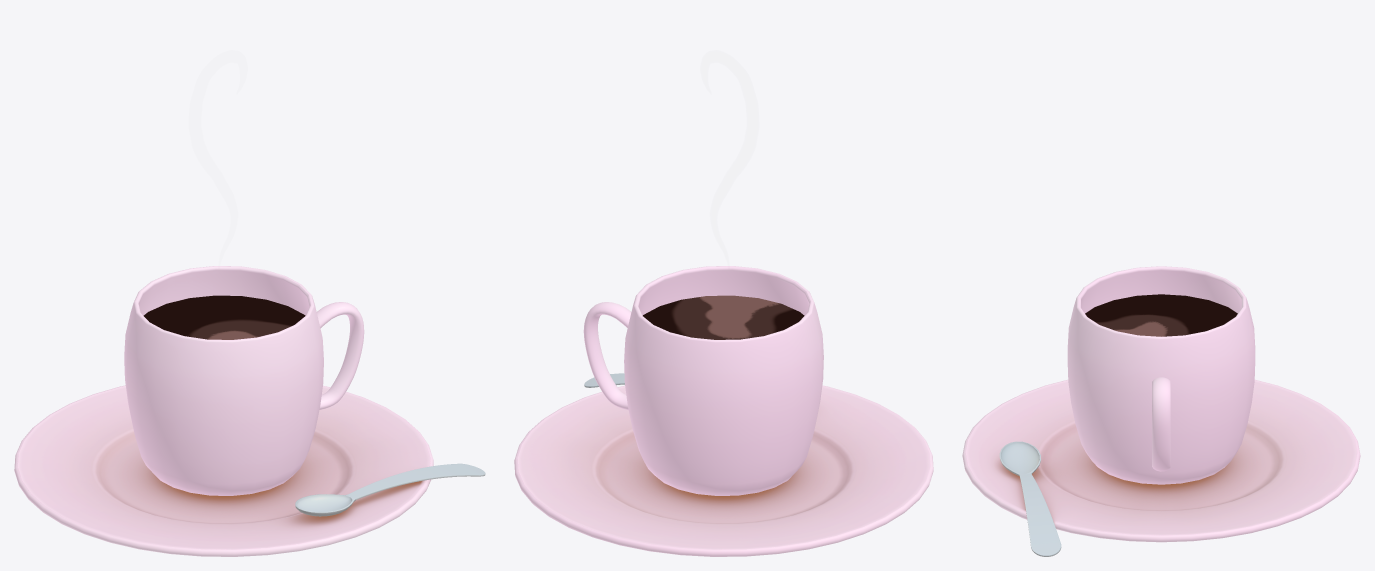
3 views of the same model, side by side, from view 1: azimuth 30°, elevation 25°; view 2: azimuth 150°, elevation 25°; view 3: azimuth 270°, elevation 25° (orthographic). The views are drawn at different scales.
Visible parts, largest first — view 1: prato_low, caneca_low, cafe, colher_low; view 2: prato_low, caneca_low, cafe; view 3: prato_low, caneca_low, cafe, colher_low.
Boxes of the visible parts, <box> form: prato_low: <box>14,385,433,556</box>; caneca_low: <box>124,266,364,495</box>; cafe: <box>143,295,305,339</box>; colher_low: <box>295,463,485,516</box>; prato_low: <box>514,385,933,556</box>; caneca_low: <box>583,266,823,495</box>; cafe: <box>643,295,804,339</box>; prato_low: <box>962,379,1360,542</box>; caneca_low: <box>1067,266,1255,484</box>; cafe: <box>1085,294,1237,336</box>; colher_low: <box>999,441,1061,556</box>.
Bounding box in the file's own units: 1.29 × 1.5 × 1.24.
4 materials, 4 textured.
